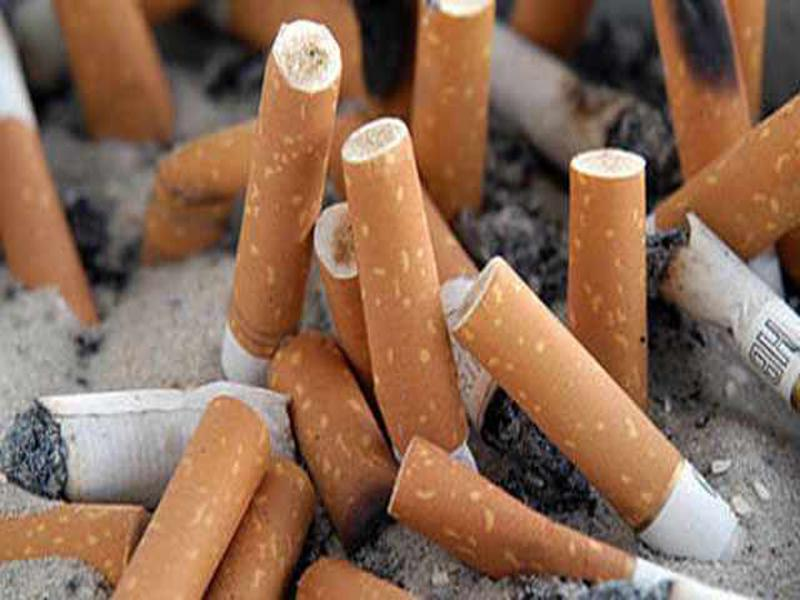burned_cigarette: (446, 253, 753, 565), (384, 436, 752, 600), (330, 114, 478, 462), (217, 16, 347, 381), (2, 364, 298, 501), (648, 204, 800, 409), (262, 331, 398, 548)
